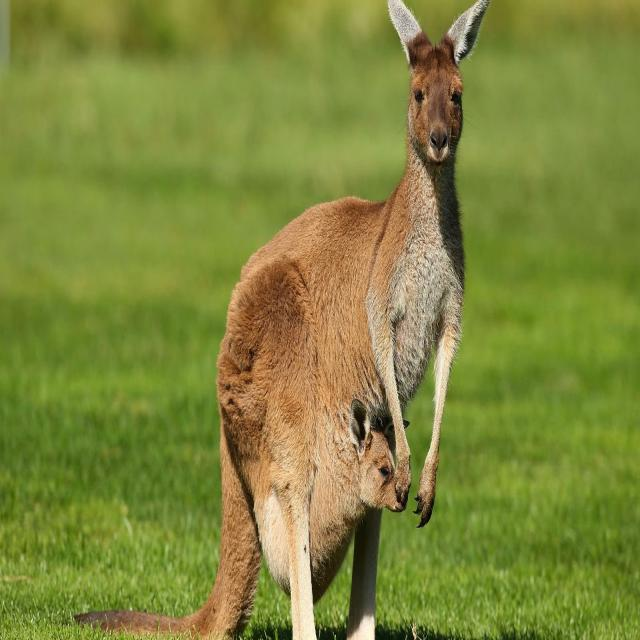kangaroo: (81, 0, 489, 639)
